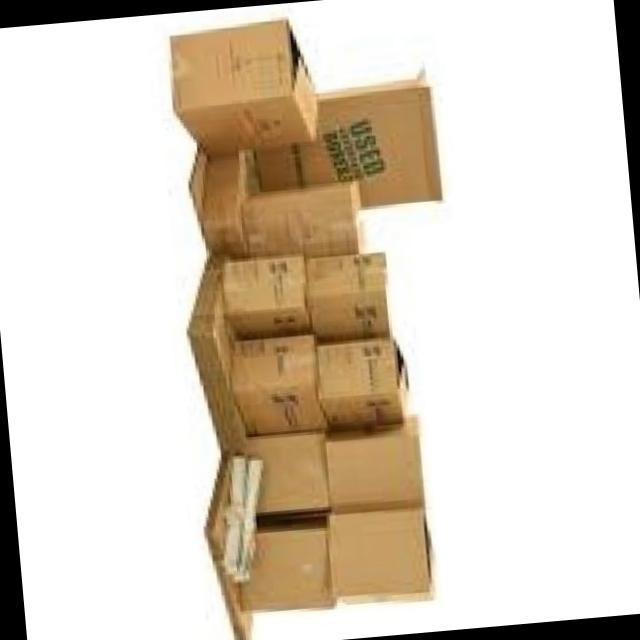cardboard paper: (172, 17, 318, 150), (329, 507, 432, 598), (234, 183, 359, 255), (234, 334, 324, 433), (326, 422, 423, 509), (318, 337, 402, 426), (243, 527, 332, 611), (306, 252, 389, 339), (224, 253, 308, 334), (248, 430, 329, 510)
